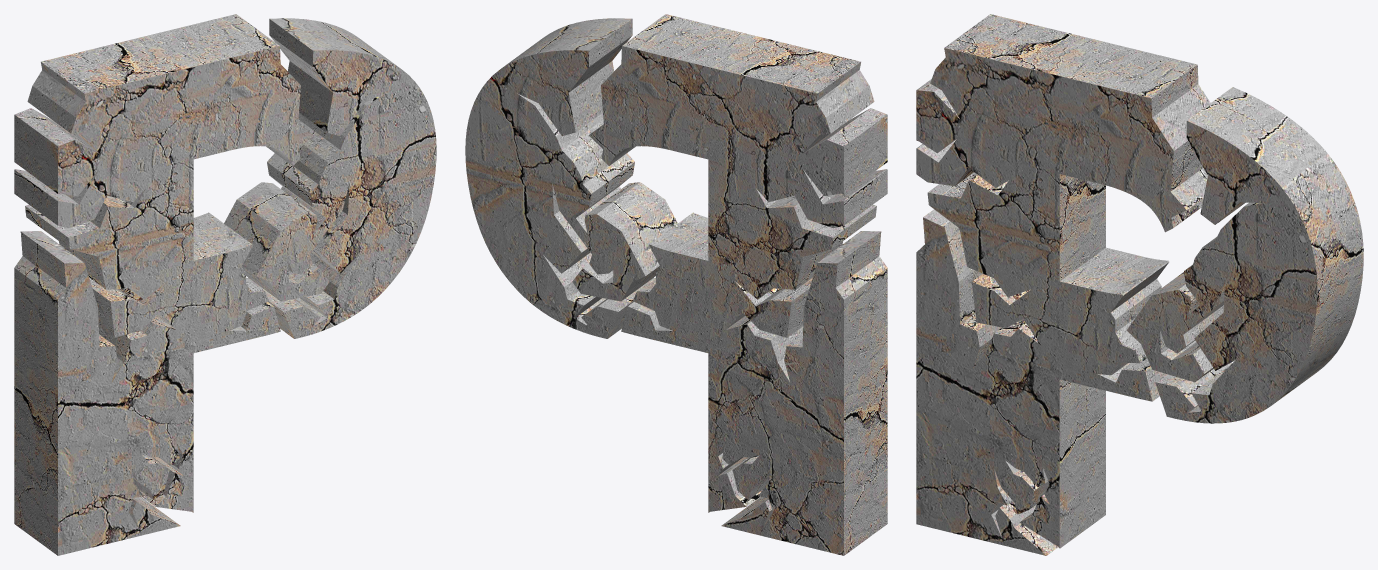
The picture shows the model from 3 angles, left to right: view 1: azimuth 30°, elevation 25°; view 2: azimuth 150°, elevation 25°; view 3: azimuth 330°, elevation 25°; orthographic projection. The views are drawn at different scales.
Parts seen in each view (by area): view 1: P; view 2: P; view 3: P.
Part boxes in pixels (x1,y1,x2,y2): P: (14,14,436,555); P: (465,14,887,555); P: (916,14,1363,555).
Bounding box in the file's own units: 75.06 × 86.36 × 15.
Materials: 1 (1 with a texture image).
